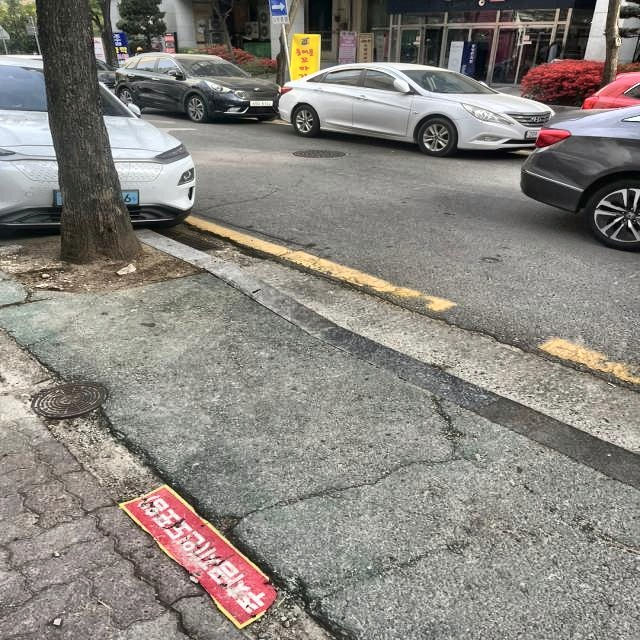Sewer Cover: (276, 136, 364, 172)
